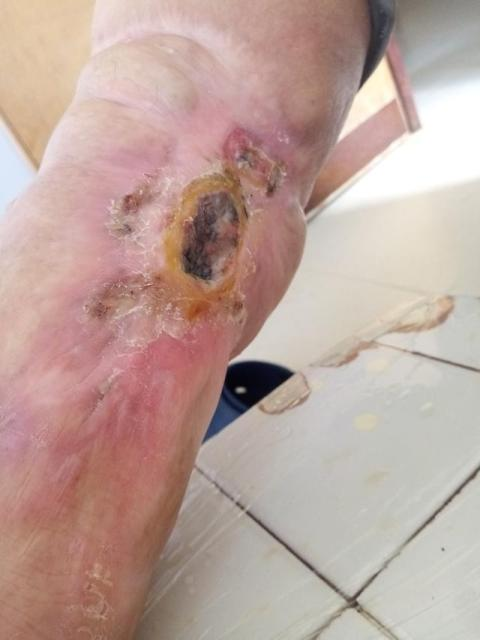wound: (87, 128, 294, 329), (106, 176, 162, 237)
